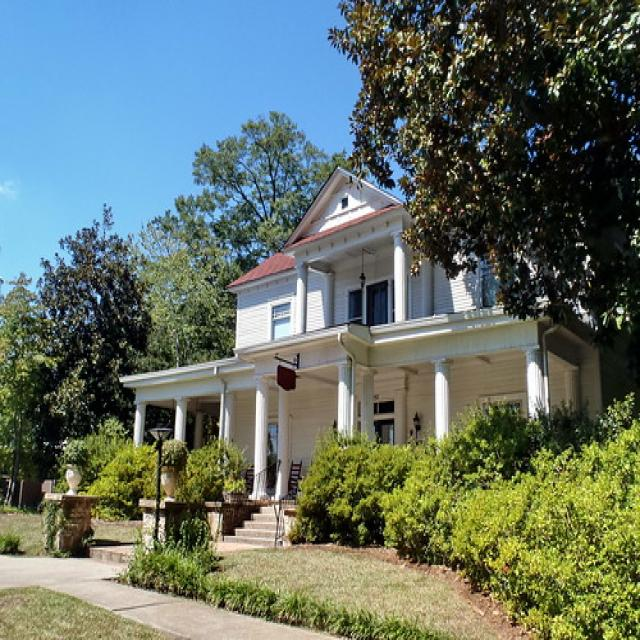building: (116, 163, 614, 556)
